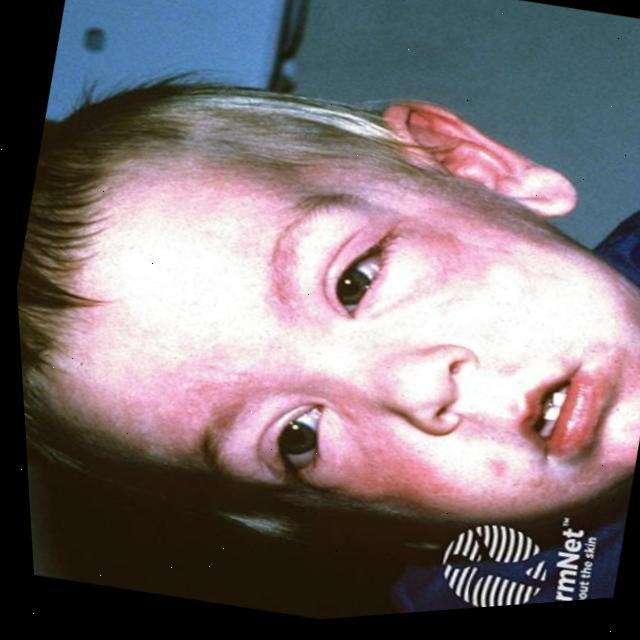Eczema: (93, 112, 574, 543)
